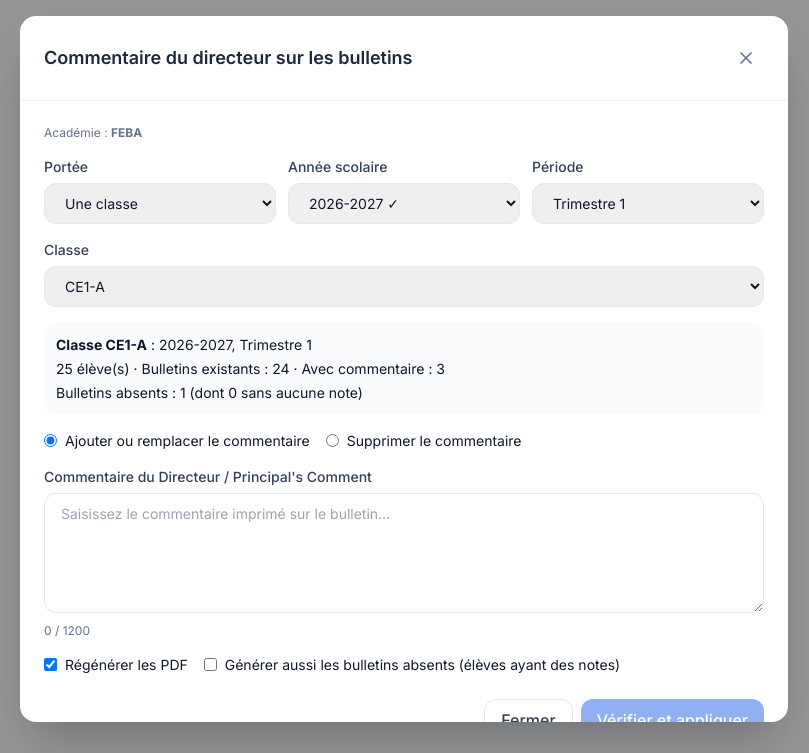
Scenario: opération groupée › montre la portée, demande confirmation, puis le bilan partiel tel quel
Expected: the element with test id "scope-preview" shows "Classe CE1-A", [56,336,147,353]
Expected: the element with test id "scope-preview" shows "25 élève(s)", [56,360,130,377]
Step 1. Type "Bravo" into the text box labelled "Commentaire du Directeur / Principal's Comment" → (404, 553), box [44,493,764,613]
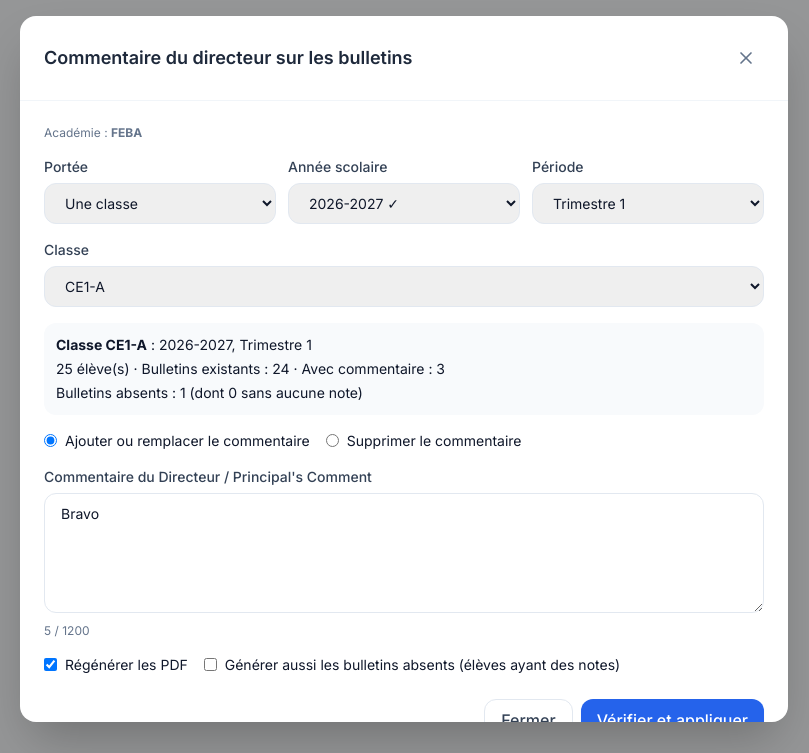
Step 2. Click the button "Vérifier et appliquer" → (672, 720), box [581,699,764,741]
(page scrolled)
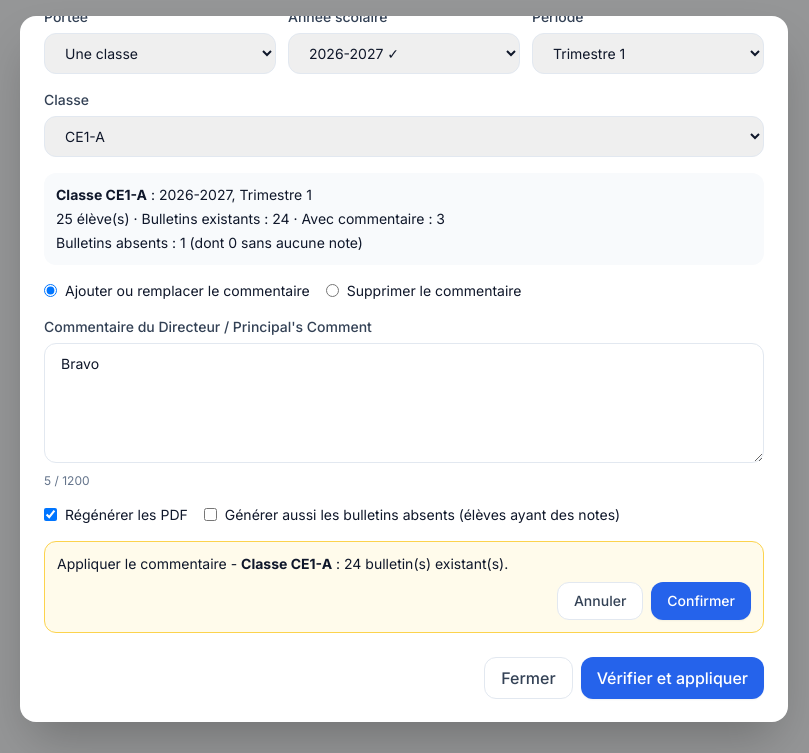
Now the element with test id "confirm-box" shows "24 bulletin(s) existant(s)", box [344,555,504,572]
Step 3. Click the button "Confirmer" → (701, 601), box [651,582,751,620]
(page scrolled)
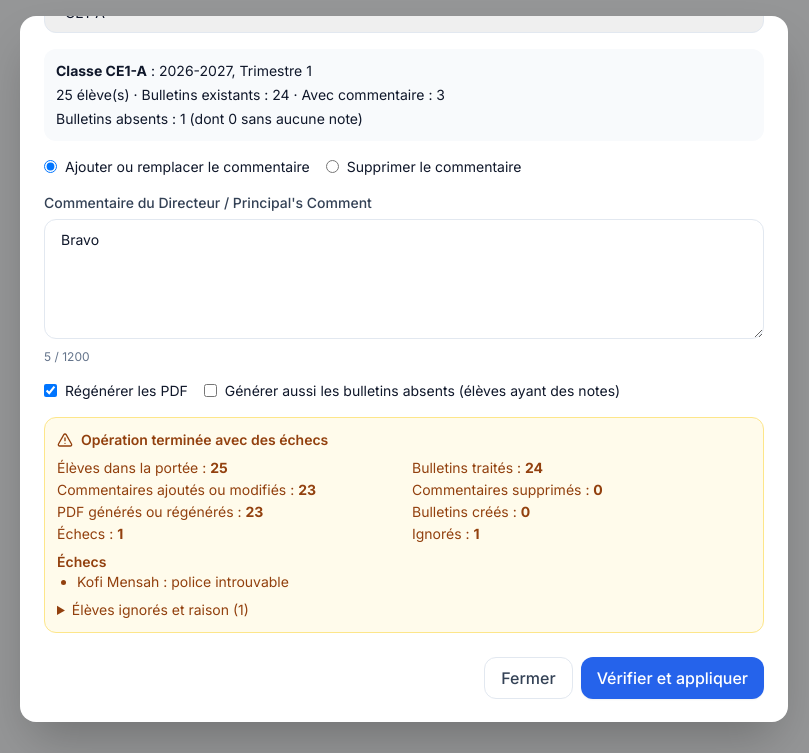
Now the element with test id "operation-report" shows "Opération terminée avec des échecs", box [81,431,328,448]
Now the element with test id "operation-report" shows "Kofi Mensah : police introuvable", box [44,417,764,633]
